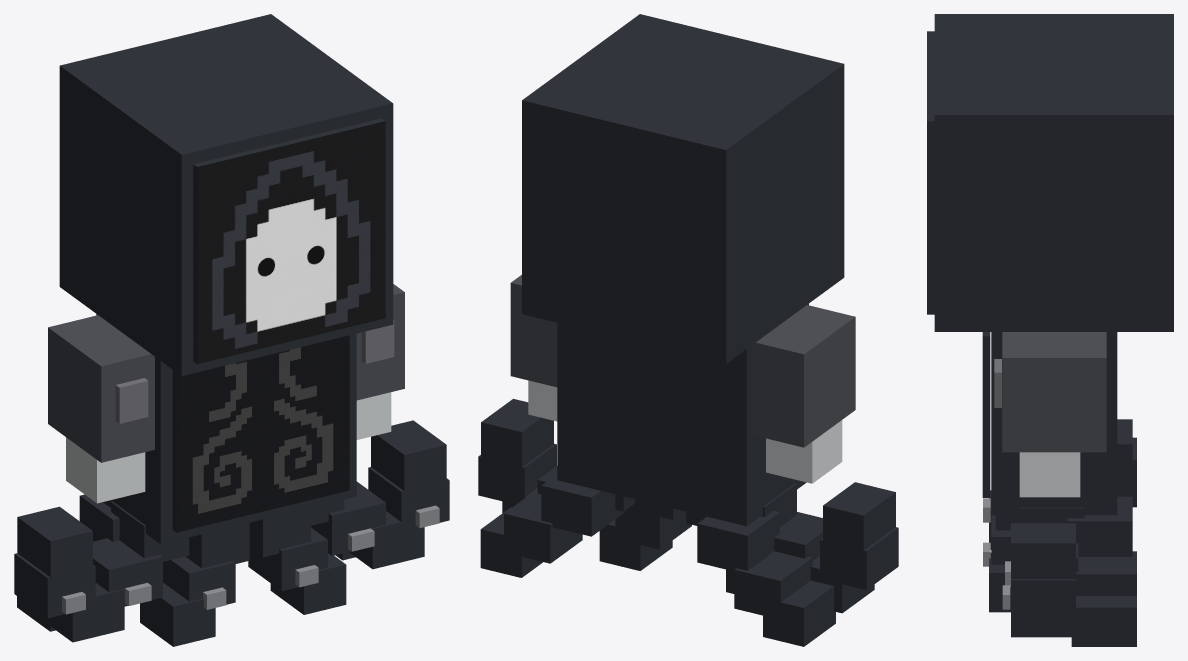
File: takosan.glb
3 views of the same model, side by side, from view 1: azimuth 30°, elevation 25°; view 2: azimuth 150°, elevation 25°; view 3: azimuth 270°, elevation 25° (orthographic). The views are drawn at different scales.
Parts seen in each view (by area): view 1: TakosanVoxel_HoodCube, TakosanVoxel_FacePanel, TakosanVoxel_RobeFrontPanel, TakosanVoxel_SecondarySleeve, TakosanVoxel_Robe, TakosanVoxel_Tentacle_0_Segment_4, TakosanVoxel_Tentacle_3_Segment_4, TakosanVoxel_SecondaryHand, TakosanVoxel_Tentacle_1_Segment_2, TakosanVoxel_Tentacle_0_Segment_1, TakosanVoxel_Tentacle_0_Segment_3, TakosanVoxel_PrimarySleeve (+14 smaller); view 2: TakosanVoxel_HoodCube, TakosanVoxel_Robe, TakosanVoxel_SecondarySleeve, TakosanVoxel_Tentacle_0_Segment_4, TakosanVoxel_Tentacle_4_Segment_0, TakosanVoxel_Tentacle_3_Segment_4, TakosanVoxel_Tentacle_4_Segment_1, TakosanVoxel_PrimarySleeve, TakosanVoxel_Tentacle_5_Segment_0, TakosanVoxel_Tentacle_4_Segment_2, TakosanVoxel_Tentacle_5_Segment_1, TakosanVoxel_SecondaryHand (+9 smaller); view 3: TakosanVoxel_HoodCube, TakosanVoxel_PrimarySleeve, TakosanVoxel_Robe, TakosanVoxel_Tentacle_3_Segment_4, TakosanVoxel_Tentacle_5_Segment_2, TakosanVoxel_PrimaryHand, TakosanVoxel_Tentacle_5_Segment_0, TakosanVoxel_Tentacle_3_Segment_3, TakosanVoxel_Tentacle_5_Segment_1, TakosanVoxel_FacePanel, TakosanVoxel_RobeFrontPanel, TakosanVoxel_Tentacle_3_Segment_2 (+6 smaller).
Boxes of the visible parts, x1=… form: TakosanVoxel_HoodCube: x1=59, y1=14, x2=393, y2=375; TakosanVoxel_FacePanel: x1=193, y1=118, x2=385, y2=364; TakosanVoxel_RobeFrontPanel: x1=172, y1=335, x2=349, y2=532; TakosanVoxel_SecondarySleeve: x1=48, y1=315, x2=154, y2=462; TakosanVoxel_Robe: x1=96, y1=314, x2=356, y2=544; TakosanVoxel_Tentacle_0_Segment_4: x1=17, y1=506, x2=92, y2=581; TakosanVoxel_Tentacle_3_Segment_4: x1=371, y1=420, x2=446, y2=494; TakosanVoxel_SecondaryHand: x1=66, y1=437, x2=145, y2=503; TakosanVoxel_Tentacle_1_Segment_2: x1=140, y1=582, x2=215, y2=646; TakosanVoxel_Tentacle_0_Segment_1: x1=93, y1=538, x2=162, y2=606; TakosanVoxel_Tentacle_0_Segment_3: x1=14, y1=553, x2=95, y2=618; TakosanVoxel_PrimarySleeve: x1=356, y1=284, x2=404, y2=400; TakosanVoxel_HoodCube: x1=522, y1=14, x2=844, y2=363; TakosanVoxel_Robe: x1=557, y1=304, x2=808, y2=526; TakosanVoxel_SecondarySleeve: x1=752, y1=305, x2=855, y2=447; TakosanVoxel_Tentacle_0_Segment_4: x1=823, y1=482, x2=895, y2=554; TakosanVoxel_Tentacle_4_Segment_0: x1=697, y1=511, x2=779, y2=571; TakosanVoxel_Tentacle_3_Segment_4: x1=481, y1=398, x2=553, y2=470; TakosanVoxel_Tentacle_4_Segment_1: x1=734, y1=551, x2=812, y2=619; TakosanVoxel_PrimarySleeve: x1=510, y1=275, x2=557, y2=387; TakosanVoxel_Tentacle_5_Segment_0: x1=541, y1=474, x2=623, y2=536; TakosanVoxel_Tentacle_4_Segment_2: x1=763, y1=580, x2=835, y2=646; TakosanVoxel_Tentacle_5_Segment_1: x1=504, y1=490, x2=582, y2=563; TakosanVoxel_SecondaryHand: x1=766, y1=420, x2=842, y2=483; TakosanVoxel_HoodCube: x1=934, y1=14, x2=1173, y2=331; TakosanVoxel_PrimarySleeve: x1=1002, y1=332, x2=1106, y2=452; TakosanVoxel_Robe: x1=991, y1=332, x2=1117, y2=515; TakosanVoxel_Tentacle_3_Segment_4: x1=1011, y1=523, x2=1075, y2=578; TakosanVoxel_Tentacle_5_Segment_2: x1=1071, y1=596, x2=1136, y2=646; TakosanVoxel_PrimaryHand: x1=1019, y1=452, x2=1080, y2=497; TakosanVoxel_Tentacle_5_Segment_0: x1=1067, y1=496, x2=1132, y2=556; TakosanVoxel_Tentacle_3_Segment_3: x1=1011, y1=579, x2=1075, y2=619; TakosanVoxel_Tentacle_5_Segment_1: x1=1076, y1=551, x2=1136, y2=595; TakosanVoxel_FacePanel: x1=927, y1=31, x2=934, y2=314; TakosanVoxel_RobeFrontPanel: x1=982, y1=332, x2=990, y2=497; TakosanVoxel_Tentacle_3_Segment_2: x1=1011, y1=619, x2=1075, y2=637.
Bounding box in the file's own units: 2.09 × 2.57 × 1.14.
Materials: 7 (2 with a texture image).
